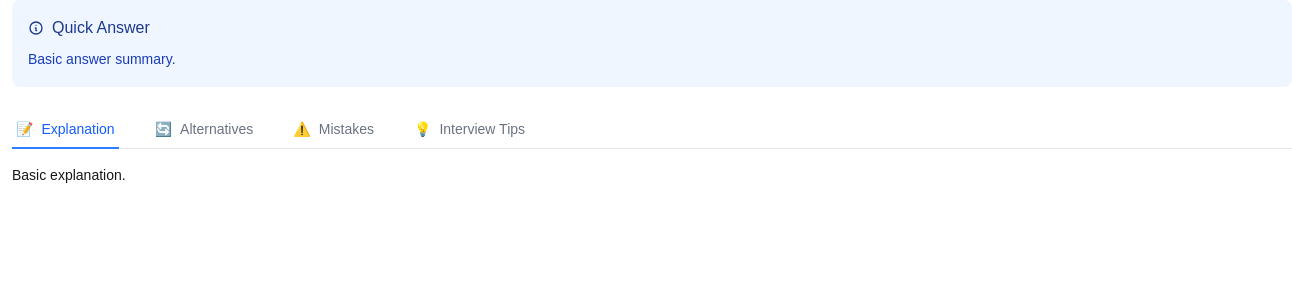
Test: DetailedAnswer › shows empty state for alternatives when none exist
Click the button "🔄 Alternatives". click: (204, 130)
box: [151, 111, 257, 149]
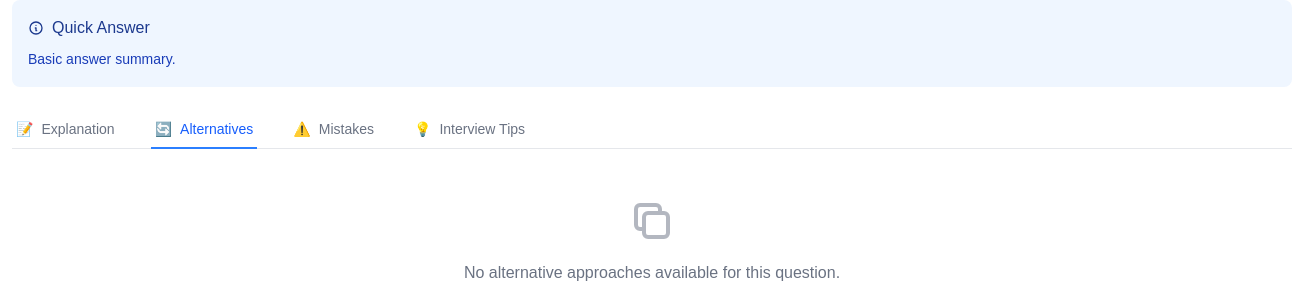
Expected: the text "No alternative approaches available for this question." is shown, [464, 264, 840, 281]
